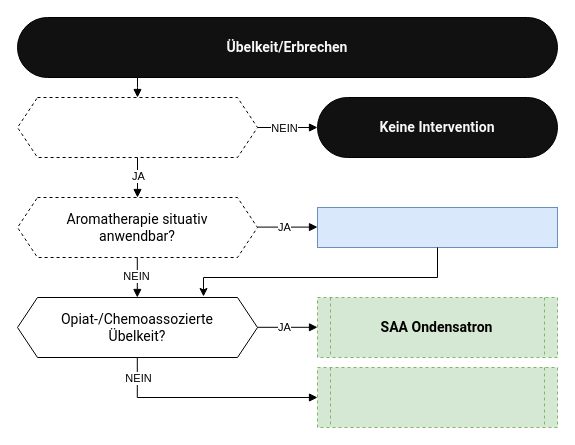
Some shapes in this 575 by 445 pixel diagram are drawn without their labels. Each missing label, with the centre of its shape:
Aromatherapie: (437,227)
Relevante Übelkeit?: (137,127)
SAA Dimenhydrinat: (437,397)
